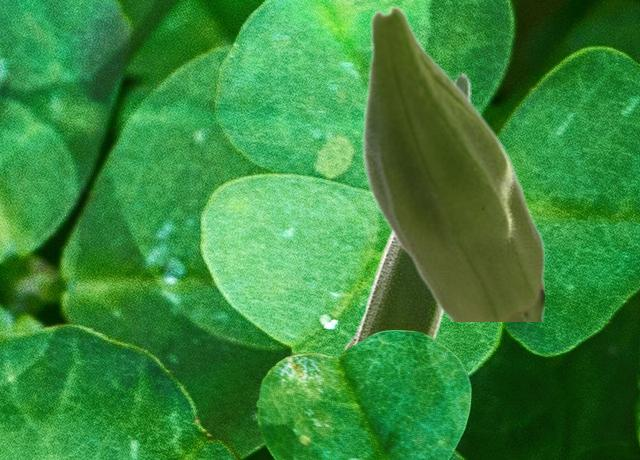okra: (361, 5, 543, 320), (339, 71, 470, 355)
